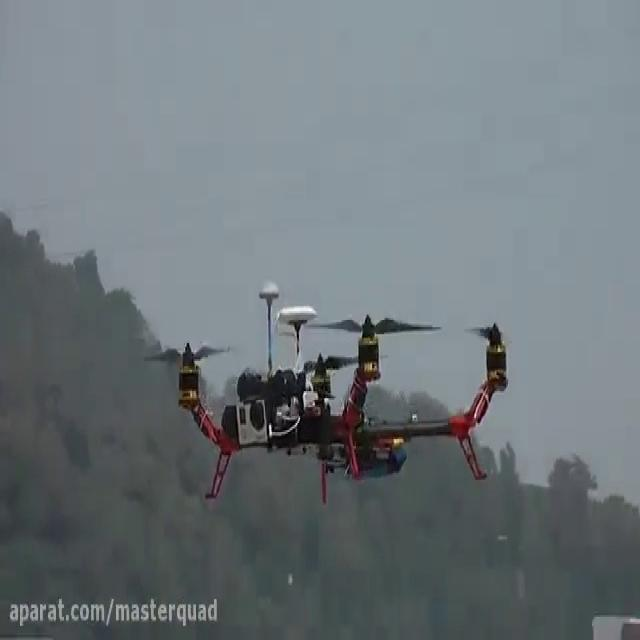drone: (140, 276, 515, 503)
